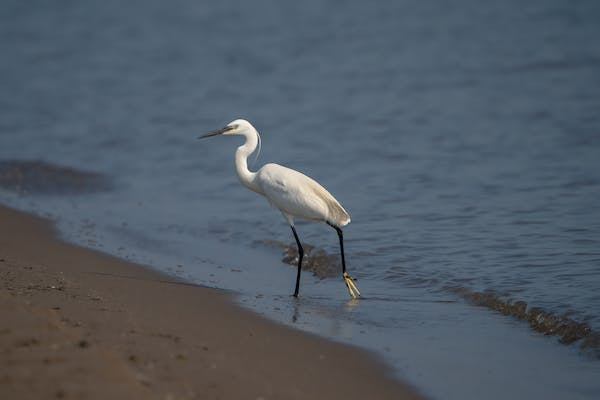Walking: (159, 102, 399, 344)
